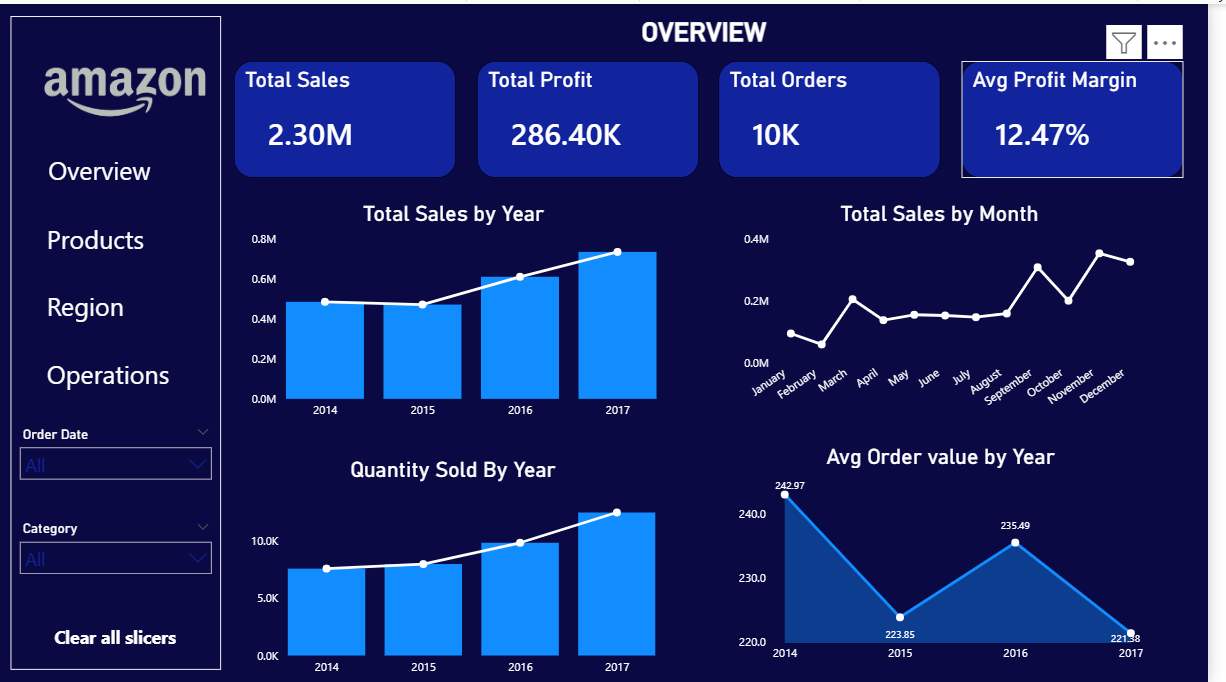

What the dashboard file says about the page in this screenshot:
{"tool":"powerbi","page":{"name":"Overview","canvas":[1280,720],"ordinal":0},"visuals":[{"type":"cardVisual","title":"Avg Profit Margin","fields":{"Data":["Orders.Avg Profit Margin"]},"box":[1019.6,60.4,235.4,124.1],"z":0},{"type":"cardVisual","title":"Total Orders","fields":{"Data":["Orders.Total Orders"]},"box":[762.4,60.4,235,124],"z":1000},{"type":"cardVisual","title":"Total Profit","fields":{"Data":["Orders.Total Profit"]},"box":[505.3,60.4,235,124.1],"z":2000},{"type":"cardVisual","title":"Total Sales","fields":{"Data":["Orders.Total Sales"]},"box":[248.1,60.4,235,124],"z":3000},{"type":"lineStackedColumnComboChart","title":"Total Sales by Year","fields":{"Category":["Orders.Order Date.Variation.Date Hierarchy.Year"],"Y":["Orders.Total Sales"],"Y2":["Orders.Total Sales"]},"box":[260.9,208.4,440,240],"z":4000},{"type":"lineChart","fields":{"Y":["Orders.Total Sales"],"Category":["Orders.Order Date.Variation.Date Hierarchy.Month"]},"box":[776.2,208.4,440,240],"z":5000},{"type":"textbox","title":"OVERVIEW","box":[261.7,13.3,968.3,60],"z":6000},{"type":"lineStackedColumnComboChart","title":" Quantity Sold By Year","fields":{"Category":["Orders.Order Date.Variation.Date Hierarchy.Year"],"Y":["Sum(Orders.Quantity)"],"Y2":["Sum(Orders.Quantity)"]},"box":[260.9,480.4,439,240.2],"z":7000},{"type":"areaChart","fields":{"Category":["Orders.Order Date.Variation.Date Hierarchy.Year"],"Y":["Orders.Avg Order value"]},"box":[777.8,466,439,240.2],"z":8000},{"type":"shape","box":[11.7,13.3,223.3,693.3],"z":9000},{"type":"image","box":[36.7,13.3,196.7,170],"z":10000},{"type":"actionButton","box":[38.3,143.3,196.7,65],"z":11000},{"type":"actionButton","box":[36.7,360,196.7,65],"z":12000},{"type":"actionButton","box":[36.7,287.8,196.7,65],"z":13000},{"type":"actionButton","box":[36.7,215.6,196.7,65],"z":14000},{"type":"slicer","fields":{"Values":["Orders.Order Date"]},"box":[11.7,441.7,223.3,100],"z":15000},{"type":"slicer","fields":{"Values":["Orders.Category"]},"box":[11.7,541.7,223.3,103.3],"z":16000},{"type":"actionButton","box":[11.7,645,221.7,50],"z":17000}]}

Visuals, with their boxes in screenshot pixels (x1, y1, x2, y2), scaled from the page's 1280x720 canvas onto the 1226x682 screenshot:
"Avg Profit Margin" cardVisual: box(977, 57, 1202, 175)
"Total Orders" cardVisual: box(730, 57, 955, 175)
"Total Profit" cardVisual: box(484, 57, 709, 175)
"Total Sales" cardVisual: box(238, 57, 463, 175)
"Total Sales by Year" lineStackedColumnComboChart: box(250, 197, 671, 425)
lineChart - Orders.Total Sales x Orders.Order Date.Variation.Date Hierarchy.Month: box(743, 197, 1165, 425)
"OVERVIEW" textbox: box(251, 13, 1178, 69)
" Quantity Sold By Year" lineStackedColumnComboChart: box(250, 455, 670, 681)
areaChart - Orders.Order Date.Variation.Date Hierarchy.Year x Orders.Avg Order value: box(745, 441, 1165, 669)
shape: box(11, 13, 225, 669)
image: box(35, 13, 224, 174)
actionButton: box(37, 136, 225, 197)
actionButton: box(35, 341, 224, 403)
actionButton: box(35, 273, 224, 334)
actionButton: box(35, 204, 224, 266)
slicer - Orders.Order Date: box(11, 418, 225, 513)
slicer - Orders.Category: box(11, 513, 225, 611)
actionButton: box(11, 611, 224, 658)
